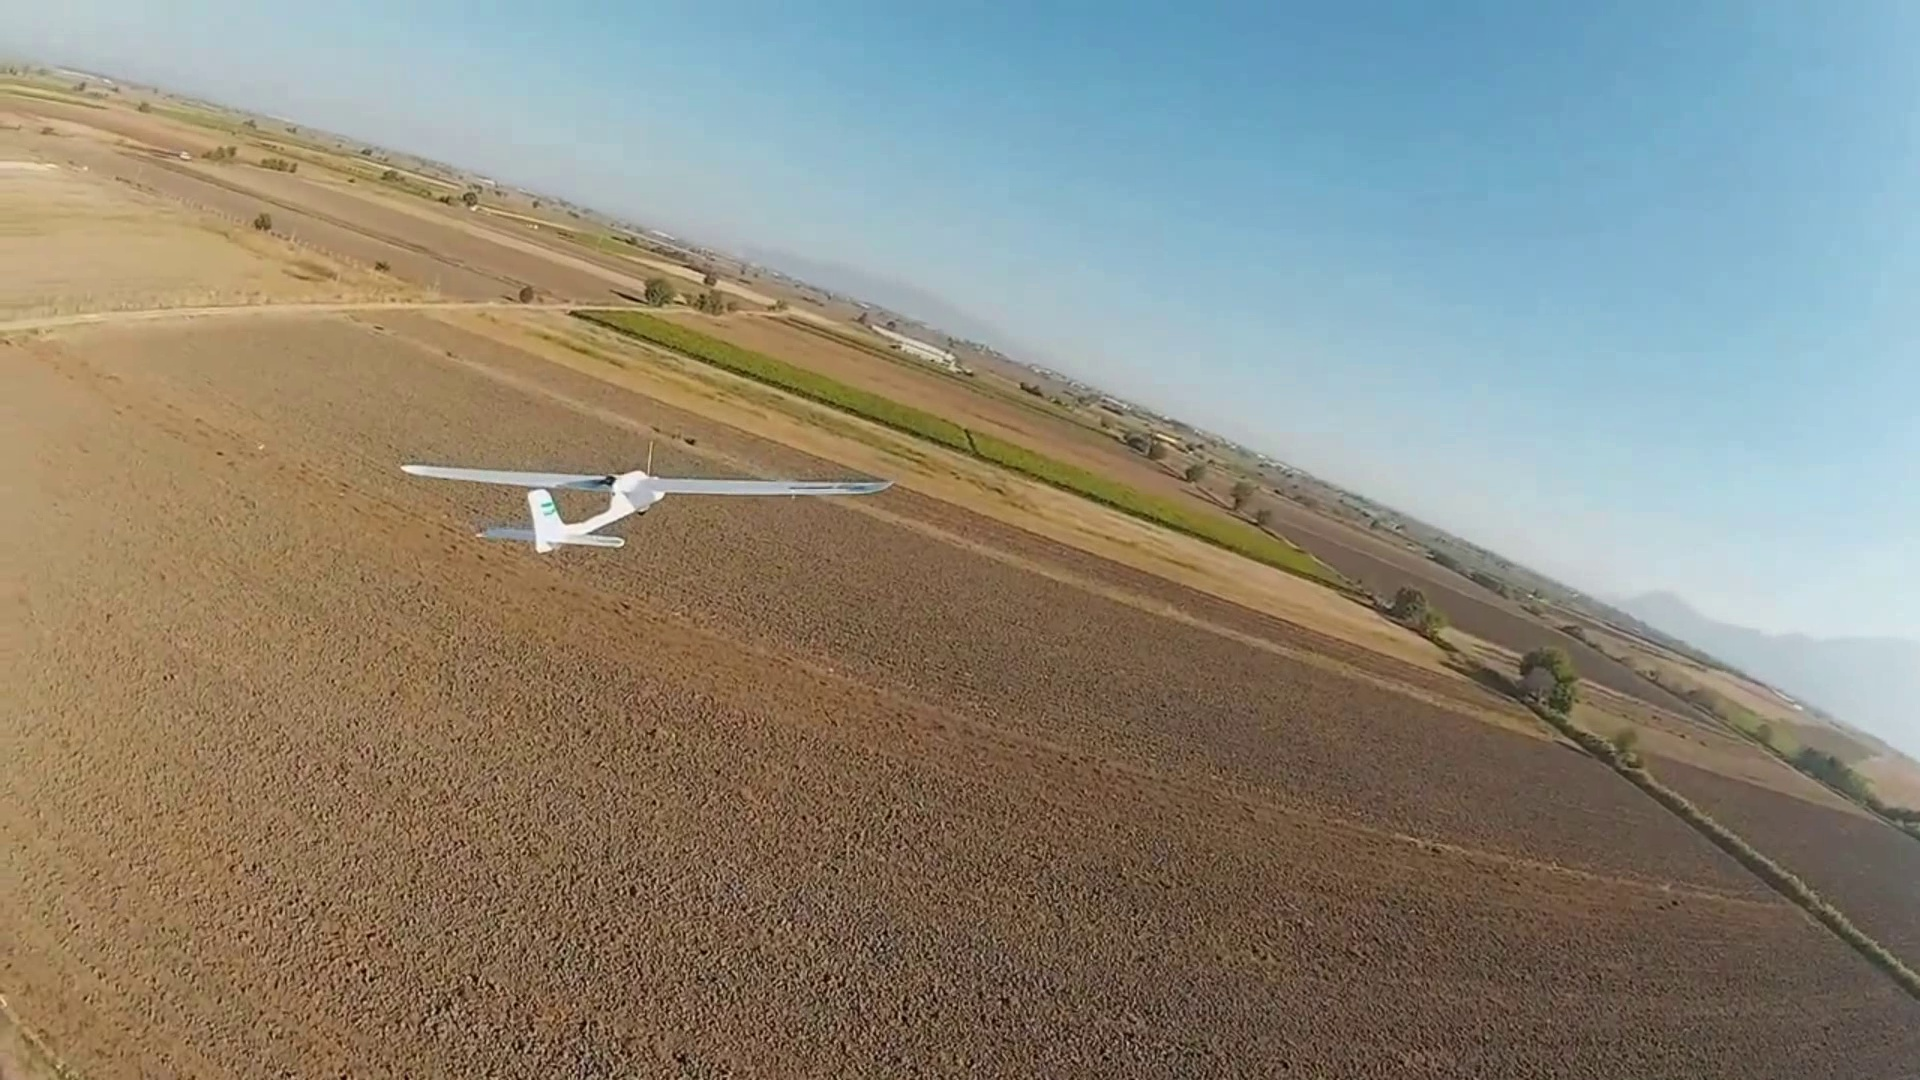airplane: (396, 465, 893, 556), (397, 459, 665, 556)
